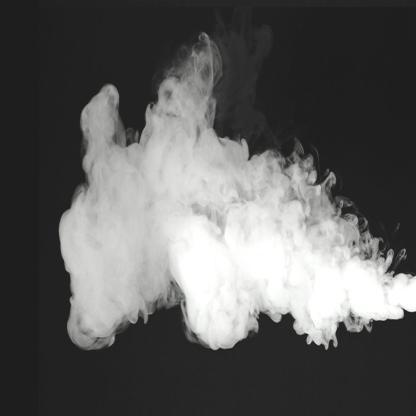smoke: (53, 98, 412, 346)
